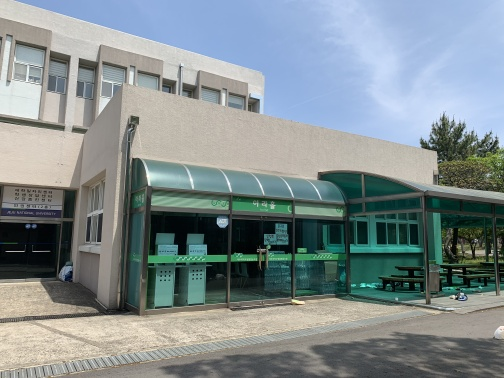Ara Hall: (76, 81, 501, 329), (123, 151, 498, 313)
